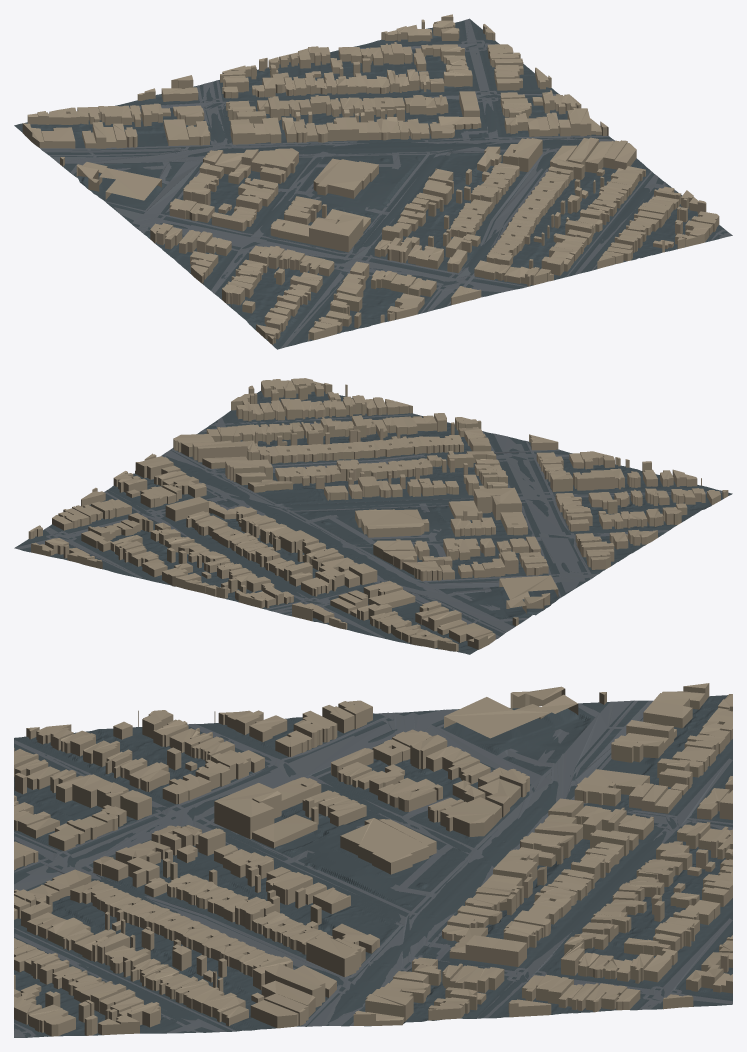
The model's file is epsg26910-1426-10868.lod0.glb.
3 renders of one model, top to bottom at view 1: azimuth 30°, elevation 25°; view 2: azimuth 150°, elevation 25°; view 3: azimuth 270°, elevation 25°, orthographic. The views are drawn at different scales.
Visible parts, largest first — view 1: epsg26910-1426-10868-lod0; view 2: epsg26910-1426-10868-lod0; view 3: epsg26910-1426-10868-lod0.
Part boxes in pixels (left/top/right/bottom): epsg26910-1426-10868-lod0: left=14, top=14, right=732, bottom=349; epsg26910-1426-10868-lod0: left=14, top=378, right=732, bottom=654; epsg26910-1426-10868-lod0: left=14, top=683, right=732, bottom=1037.
Bounding box in the file's own units: 384 × 32.3 × 384.
